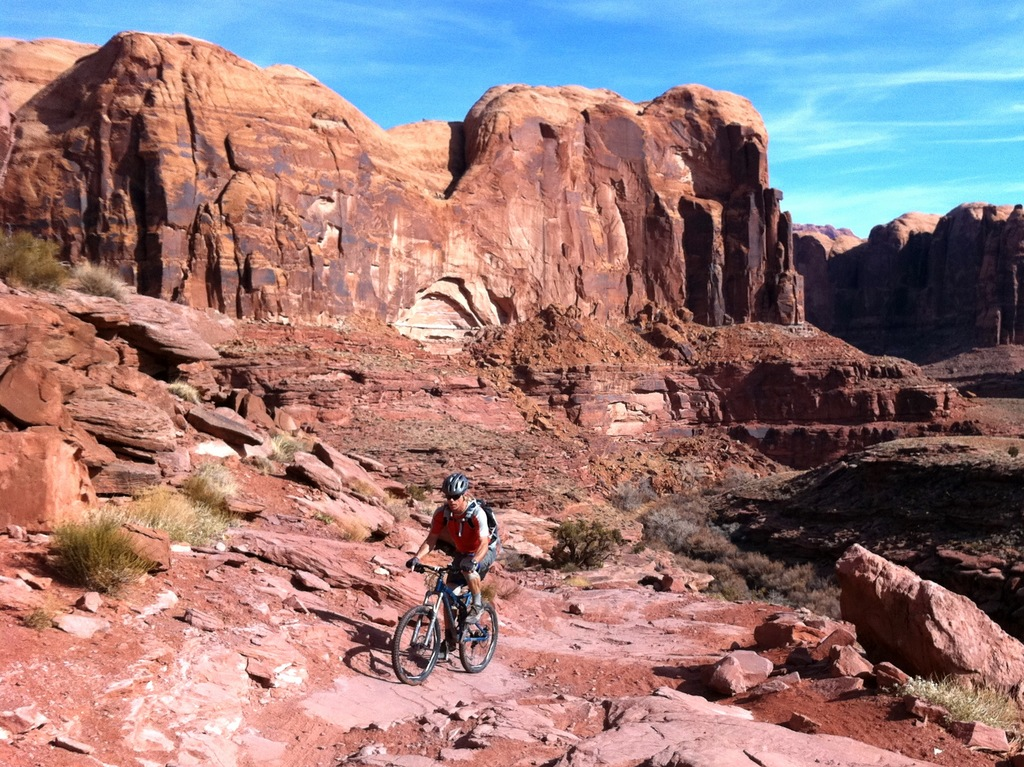Bike: (377, 558, 516, 690)
